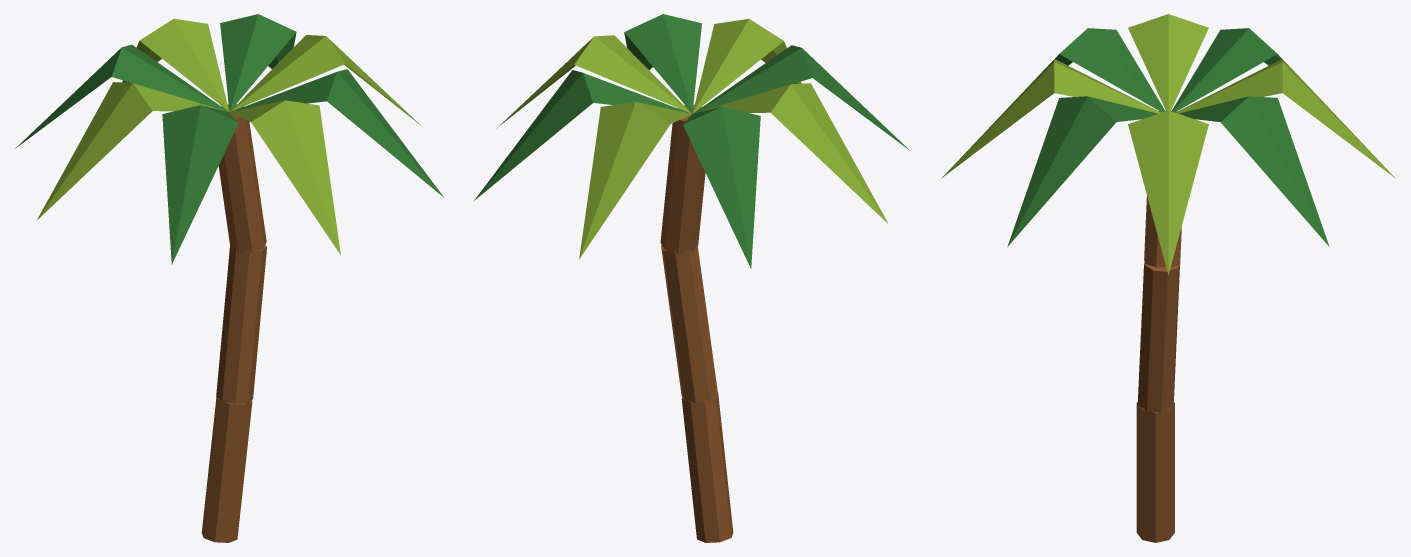
Rendered from palm_single.glb.
3 renders of one model, left to right at view 1: azimuth 30°, elevation 25°; view 2: azimuth 150°, elevation 25°; view 3: azimuth 270°, elevation 25°, orthographic. The views are drawn at different scales.
Parts seen in each view (by area): view 1: palm_single_pc; view 2: palm_single_pc; view 3: palm_single_pc.
Part boxes in pixels (bbox=[...]): palm_single_pc: bbox=[15, 14, 443, 542]; palm_single_pc: bbox=[473, 14, 909, 542]; palm_single_pc: bbox=[941, 14, 1395, 542].
Bounding box in the file's own units: 3.6 × 4.19 × 3.6.
